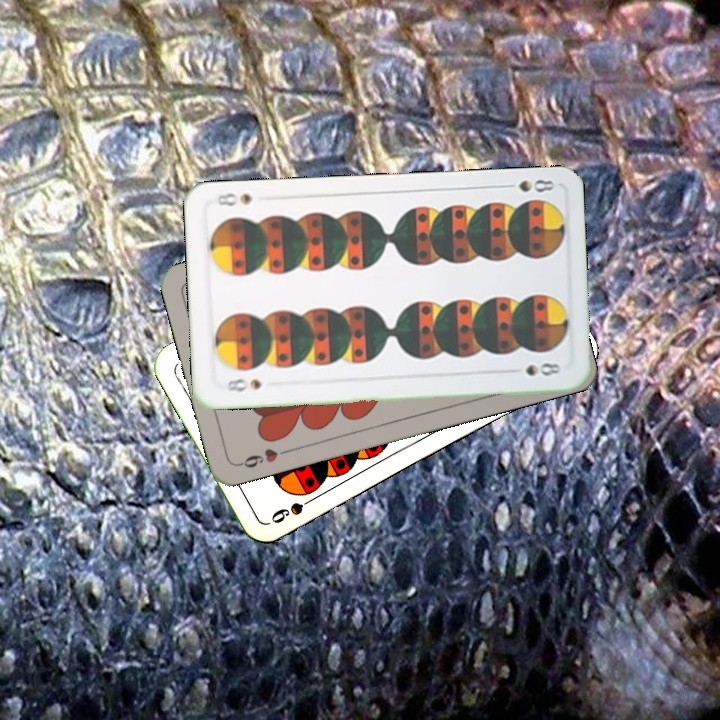H9: (234, 444, 292, 471)
S8: (498, 176, 557, 195), (223, 374, 264, 394)
S9: (267, 491, 321, 526)
